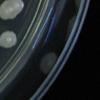white: (0, 0, 25, 20), (0, 30, 17, 50)
